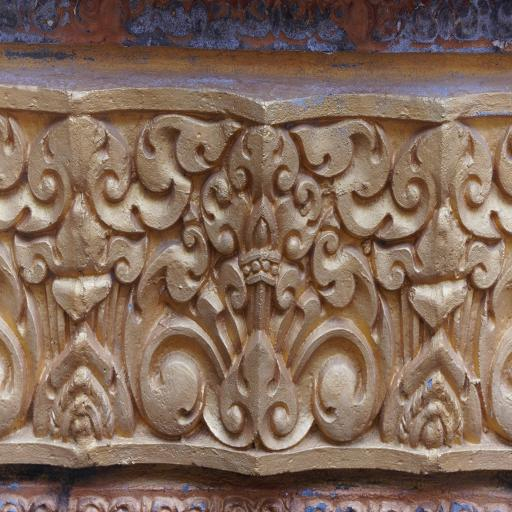hoa: (29, 320, 142, 452), (384, 325, 488, 452)
la: (134, 103, 395, 320), (17, 111, 150, 314), (375, 118, 512, 308)
